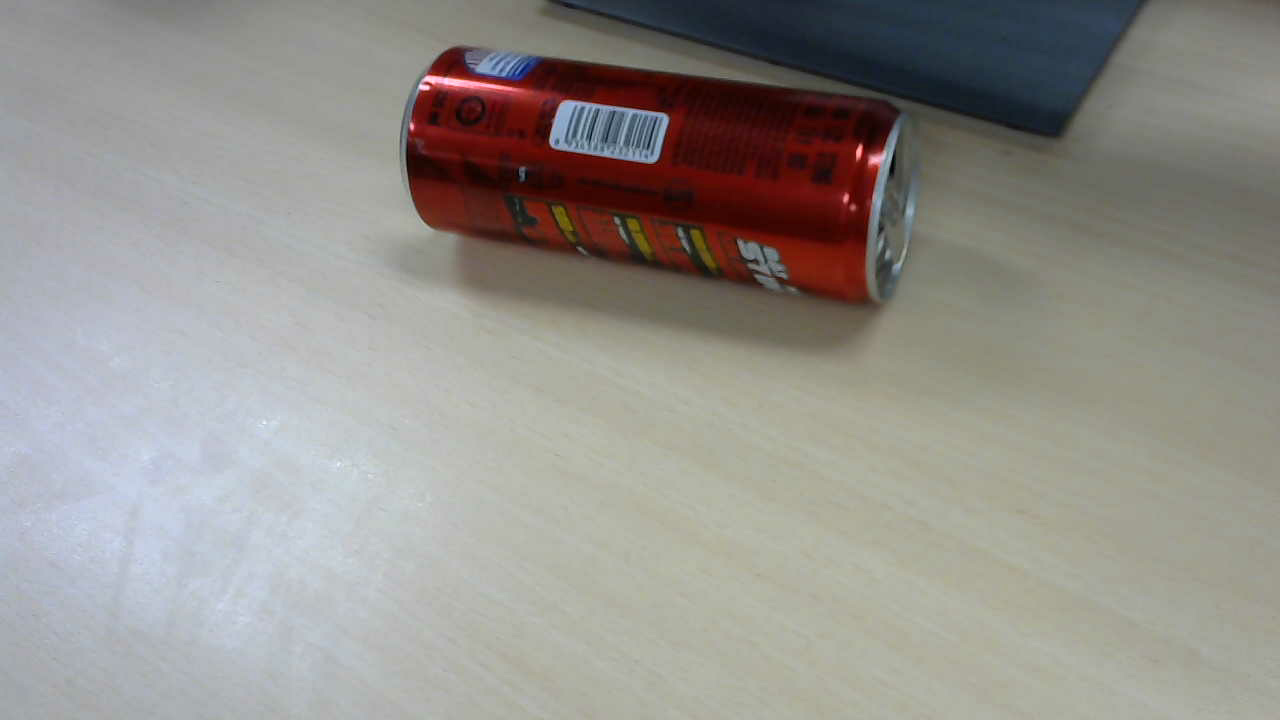Sting: (406, 52, 930, 309)
